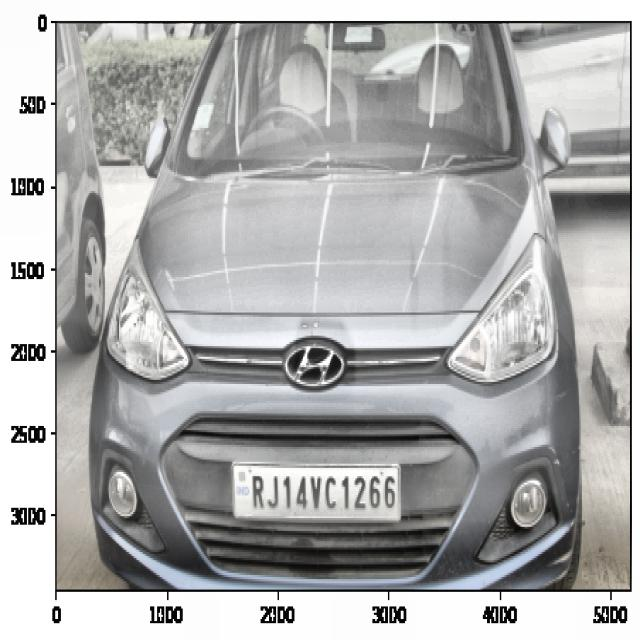license_plate: (244, 462, 404, 521)
